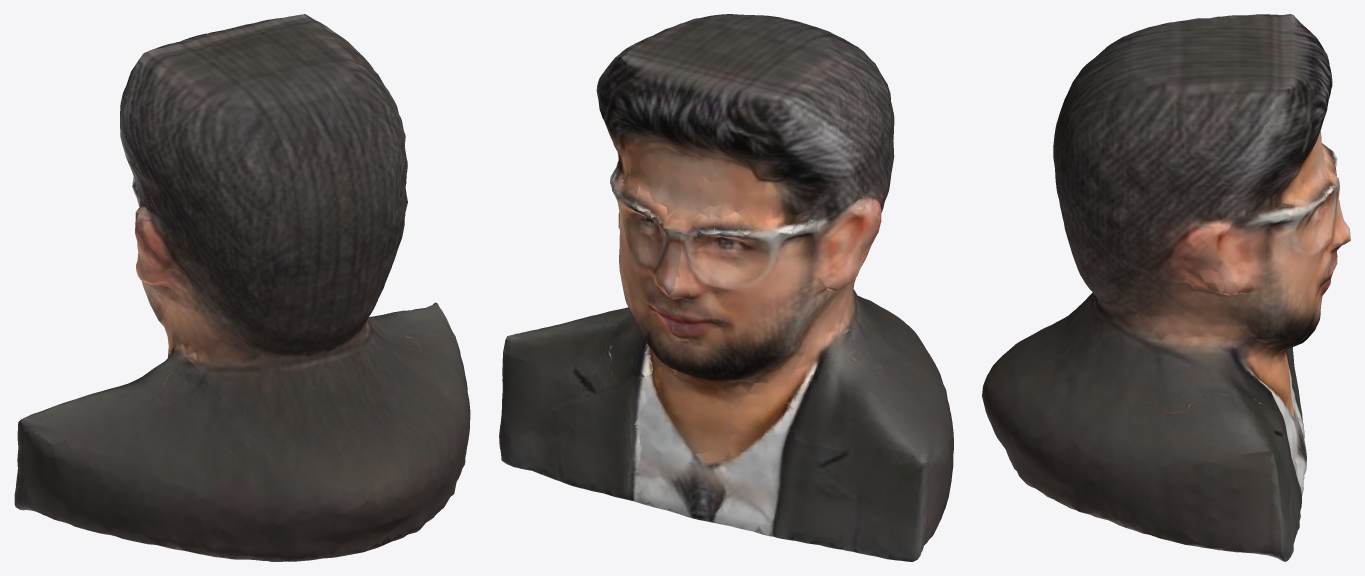
File: tmptfwb2a29.gltf
3 renders of one model, left to right at view 1: azimuth 30°, elevation 25°; view 2: azimuth 150°, elevation 25°; view 3: azimuth 270°, elevation 25°, orthographic. The views are drawn at different scales.
Visible parts, largest first — view 1: world; view 2: world; view 3: world.
Part boxes in pixels (left/top/right/bottom): world: left=14, top=14, right=470, bottom=561; world: left=499, top=14, right=953, bottom=561; world: left=982, top=14, right=1350, bottom=561.
Size of the model in its own units: 0.8534 by 0.8484 by 0.6705.
Materials: 1 (1 with a texture image).
